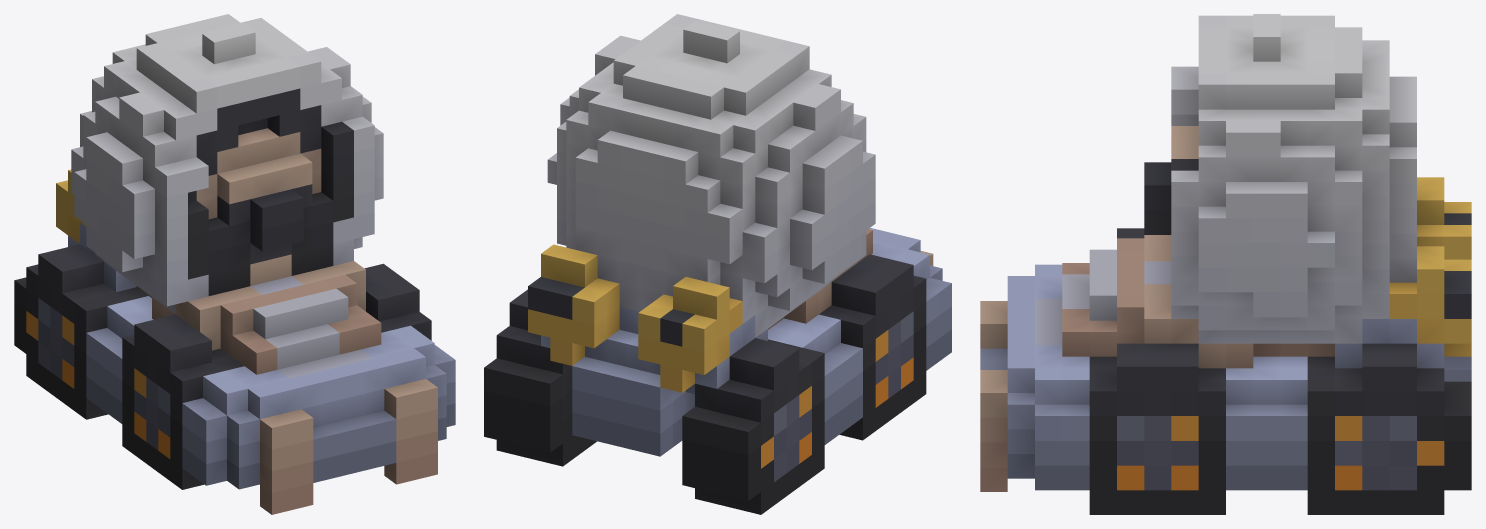
File: kart_e.glb
3 views of the same model, side by side, from view 1: azimuth 30°, elevation 25°; view 2: azimuth 150°, elevation 25°; view 3: azimuth 270°, elevation 25° (orthographic). The views are drawn at different scales.
Parts seen in each view (by area): view 1: voxels; view 2: voxels; view 3: voxels.
Boxes of the visible parts, bbox=[...] form: voxels: bbox=[14, 14, 455, 514]; voxels: bbox=[484, 14, 951, 514]; voxels: bbox=[980, 14, 1471, 514].
Bounding box in the file's own units: 0.9969 × 1.41 × 1.5.
